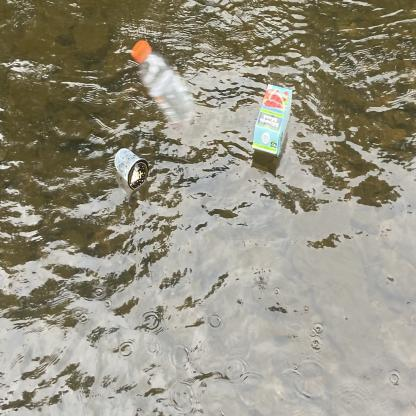trash: (126, 35, 201, 134), (248, 79, 294, 162), (108, 145, 150, 193)
